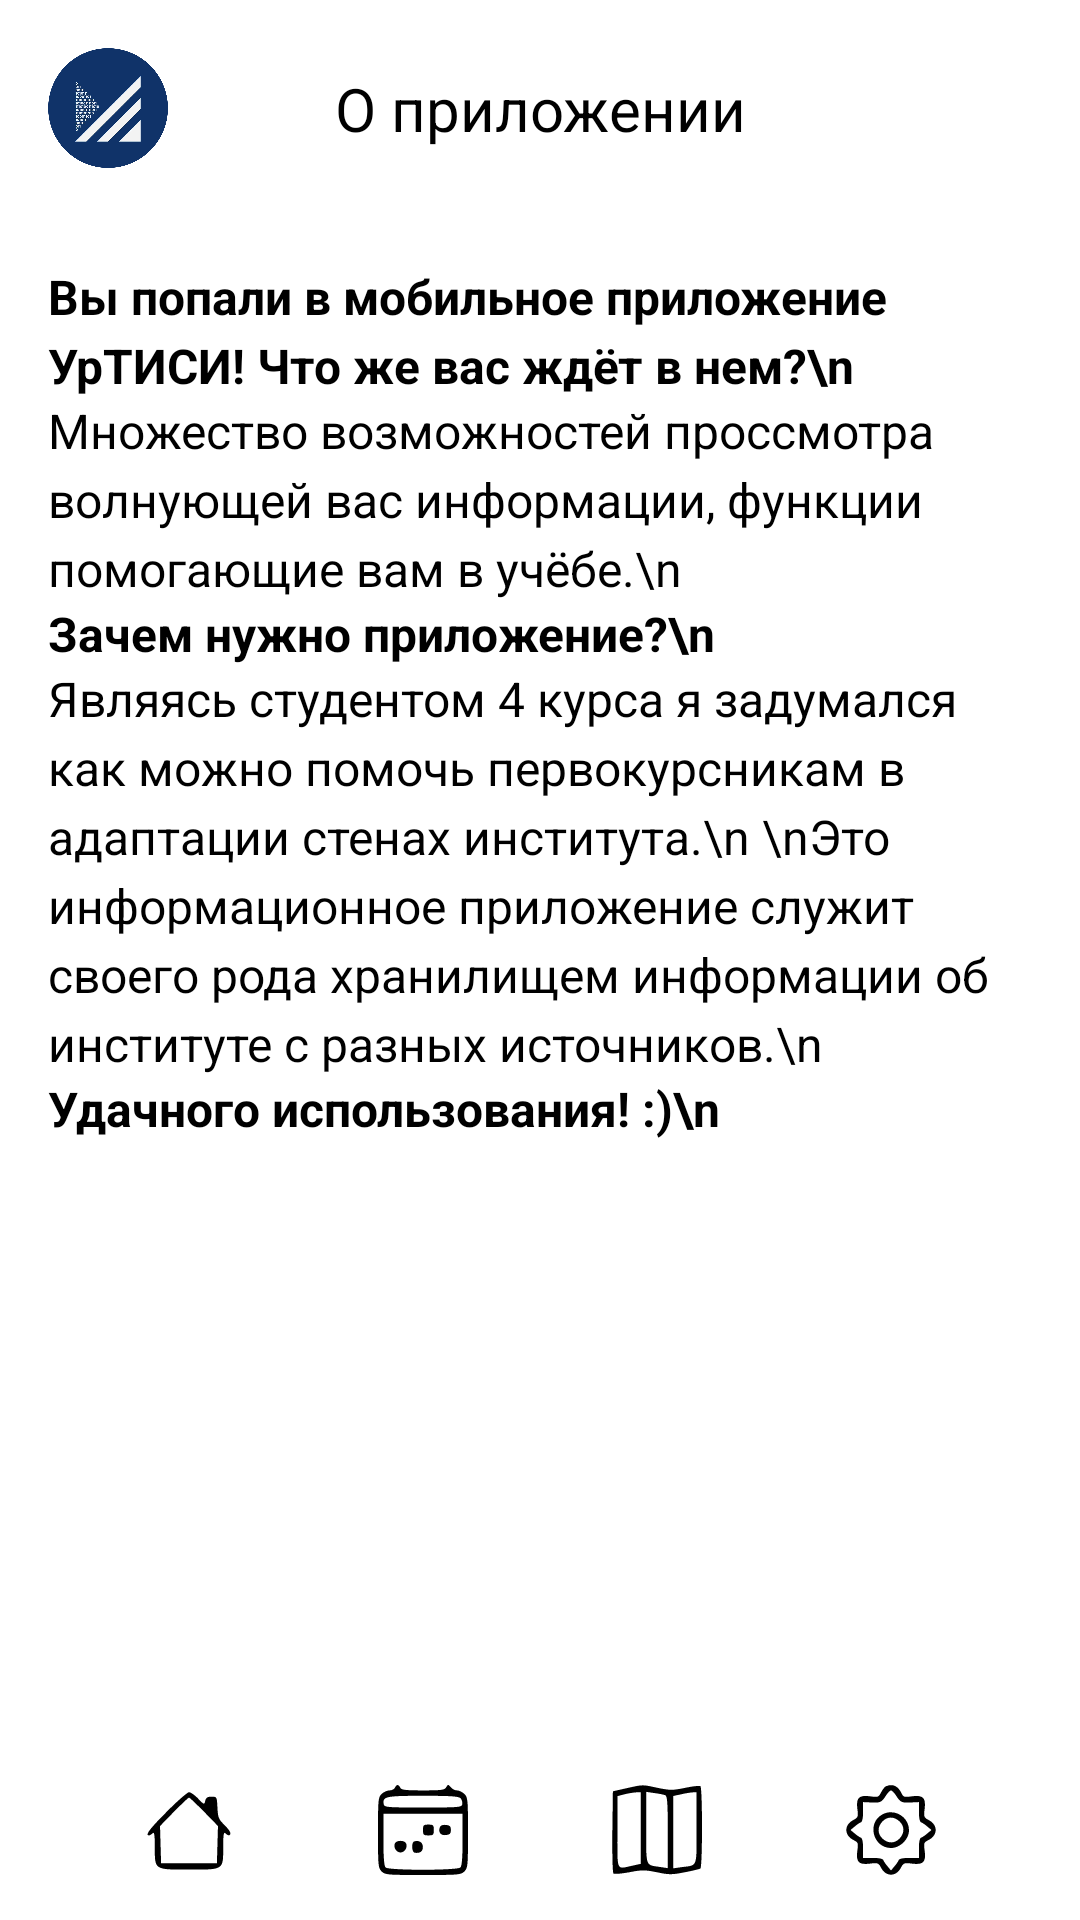

Named icons in this screenshot (1080x1920) and their bounding boxes, (x1, y1, x2, y2):
calendar: (378, 1785, 468, 1875)
home: (147, 1792, 231, 1870)
map: (612, 1785, 702, 1875)
settings: (846, 1785, 936, 1875)
